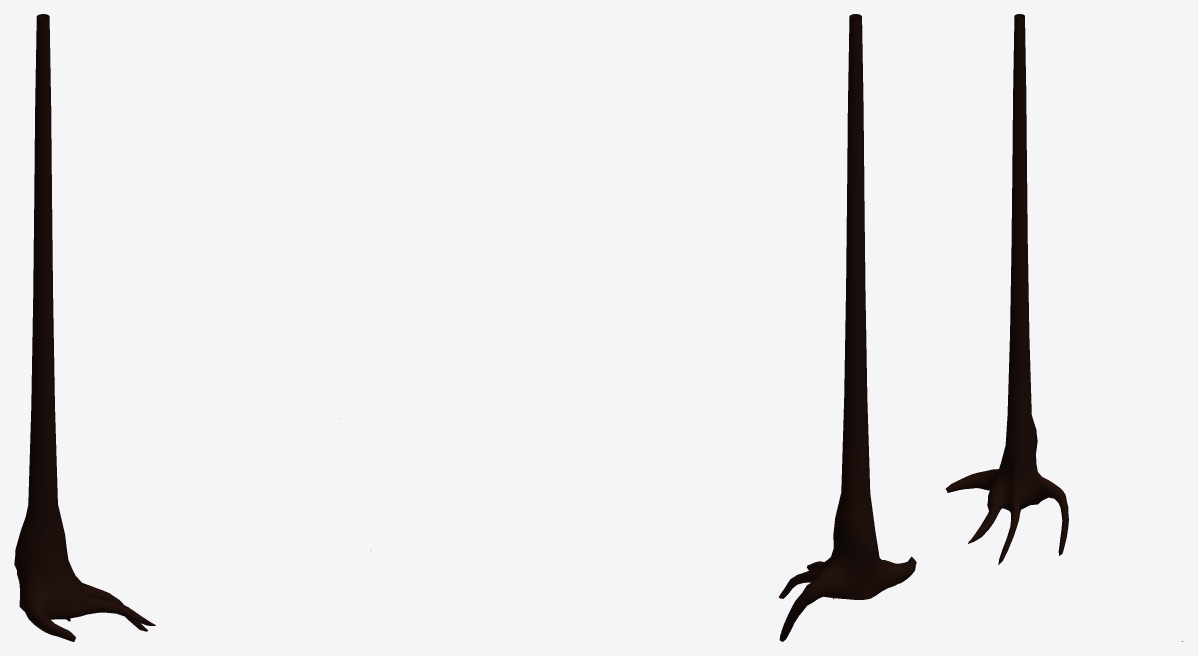
File: TallTree_BottomRight.FBX
The picture shows the model from 3 angles, left to right: view 1: azimuth 30°, elevation 25°; view 2: azimuth 150°, elevation 25°; view 3: azimuth 270°, elevation 25°; orthographic projection. The views are drawn at different scales.
Visible parts, largest first — view 1: Trees_low; view 2: Trees_low; view 3: Trees_low.
Part boxes in pixels (x1,y1,x2,y2): Trees_low: (14, 14, 155, 641); Trees_low: (370, 14, 916, 641); Trees_low: (945, 14, 1182, 641).
Size of the model in its own units: 14286 by 20192 by 8393.
